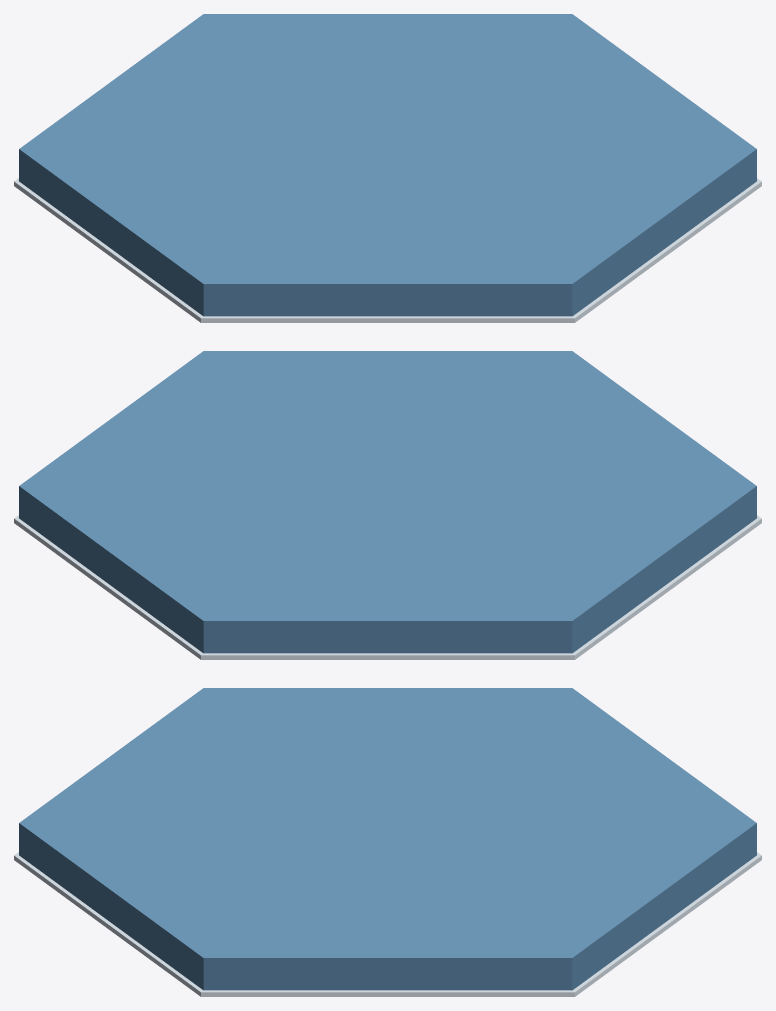
File: hex_water.glb
The picture shows the model from 3 angles, top to bottom: view 1: azimuth 30°, elevation 25°; view 2: azimuth 150°, elevation 25°; view 3: azimuth 270°, elevation 25°; orthographic projection.
Parts seen in each view (by area): view 1: hex_water; view 2: hex_water; view 3: hex_water.
Boxes of the visible parts, x1,y1,x2,y2 form: hex_water: [14, 14, 761, 322]; hex_water: [14, 351, 761, 659]; hex_water: [14, 688, 761, 996].
Bounding box in the file's own units: 1.01 × 0.064 × 1.17.
